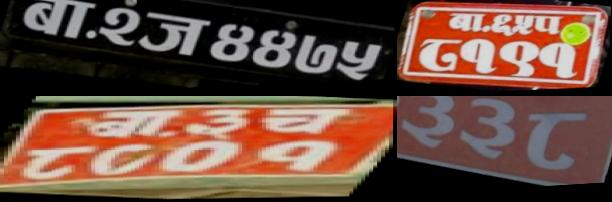0: (158, 139, 248, 173), (86, 144, 168, 178)
1: (245, 139, 347, 175), (532, 41, 588, 82), (453, 35, 503, 77)
2: (90, 1, 146, 53)
3: (447, 96, 529, 177), (397, 96, 465, 160), (174, 107, 273, 144)
4: (202, 18, 260, 70), (247, 26, 303, 76)
5: (328, 37, 387, 85), (510, 13, 538, 38)
6: (488, 12, 516, 37)
7: (289, 32, 344, 82)
8: (513, 103, 595, 188), (7, 143, 101, 182), (413, 34, 465, 73)
9: (492, 38, 545, 80)
ba: (11, 0, 99, 47), (86, 107, 176, 140), (445, 10, 485, 35)
cha: (248, 106, 350, 138)
ja: (130, 5, 215, 65)
pa: (530, 14, 565, 38)
